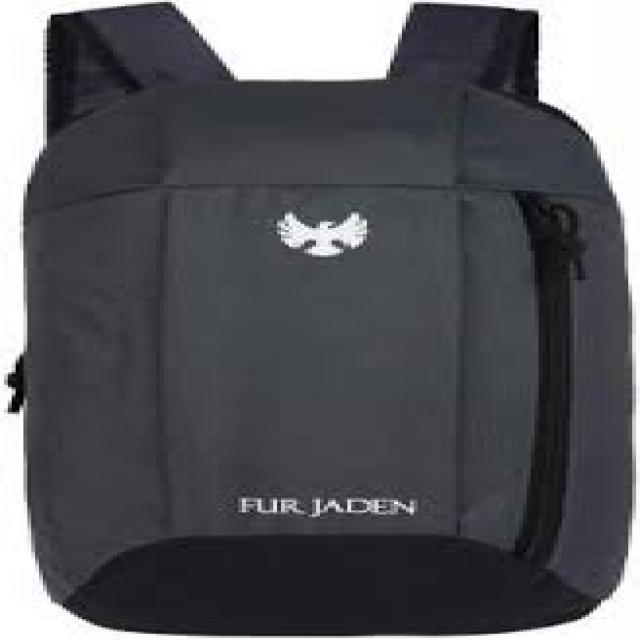backpack: (5, 1, 633, 637)
